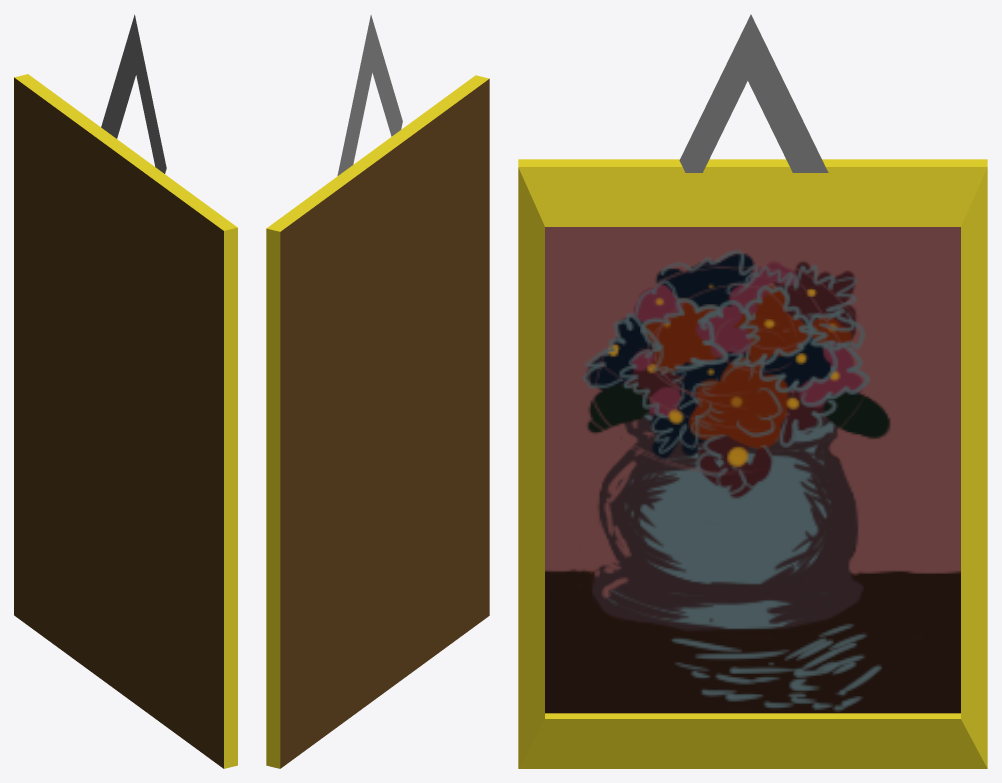
Rendered from paintingFlower.glb.
3 renders of one model, left to right at view 1: azimuth 30°, elevation 25°; view 2: azimuth 150°, elevation 25°; view 3: azimuth 270°, elevation 25°, orthographic. The views are drawn at different scales.
Parts seen in each view (by area): view 1: Frame; view 2: Frame; view 3: countPainting, Frame.
Part boxes in pixels (x1=…): Frame: x1=14, y1=14, x2=237, y2=768; Frame: x1=266, y1=15, x2=489, y2=768; countPainting: x1=545, y1=227, x2=960, y2=713; Frame: x1=518, y1=14, x2=987, y2=768.
Size of the model in its own units: 0.0581 by 1.63 by 0.9159.
2 materials, 2 textured.
